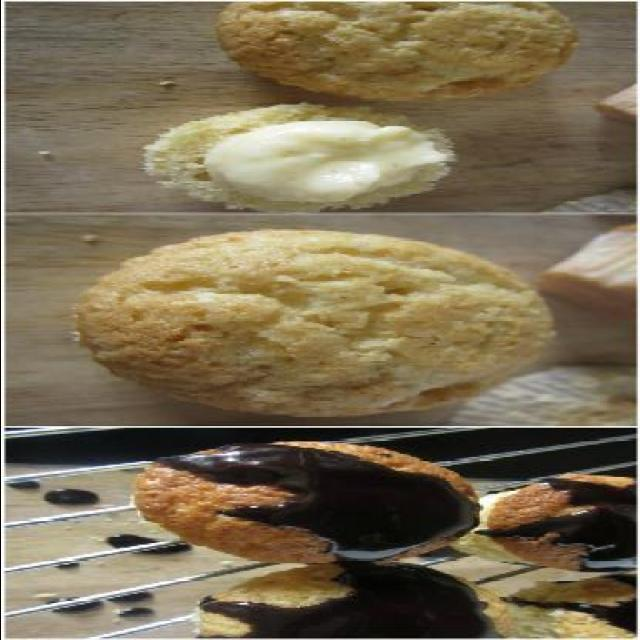Cookie: (66, 214, 550, 426), (123, 438, 486, 564), (210, 0, 581, 103), (142, 101, 462, 213), (188, 560, 508, 640), (448, 471, 640, 574), (503, 577, 640, 640)
